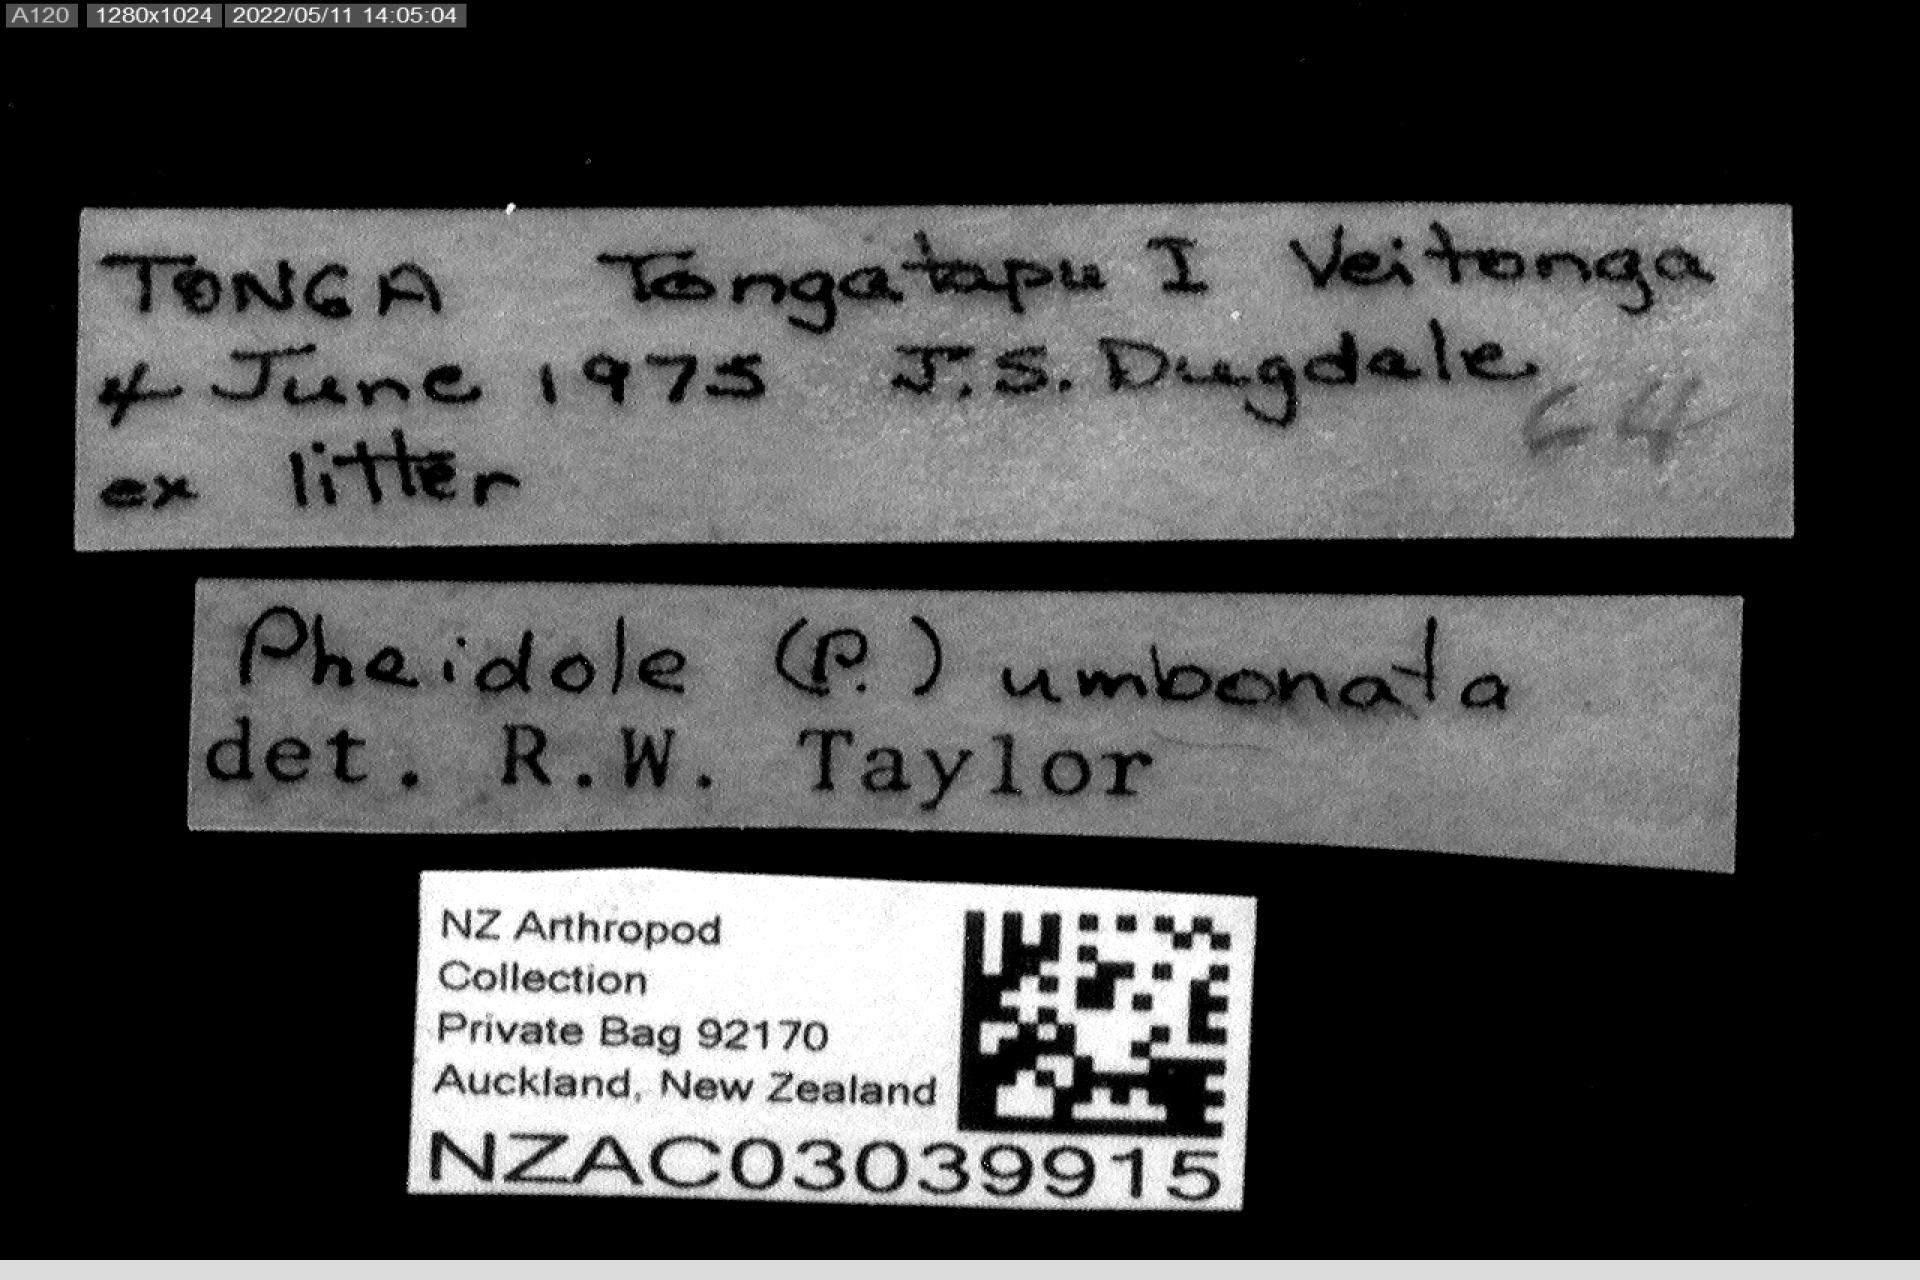hand_label: (74, 203, 1793, 550)
mixed_label: (187, 579, 1740, 871)
typed_label: (409, 869, 1256, 1210)
